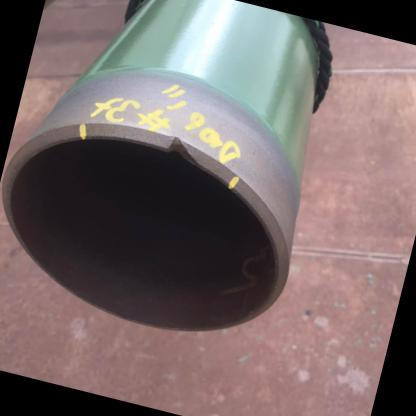Bevel: (157, 128, 210, 166)
